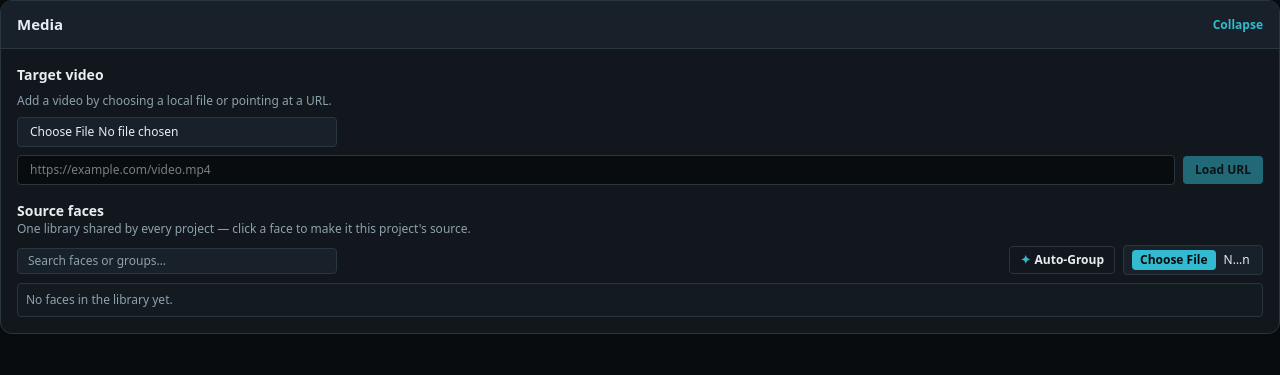
media card — video ingest › shows a failed URL ingest with the server message and keeps the entered URL
This screenshot has width=1280, height=375.
Type "https://bad.example/v.mp4" into the field with test id "media-url-input" at (596, 170), box [17,155,1175,185]
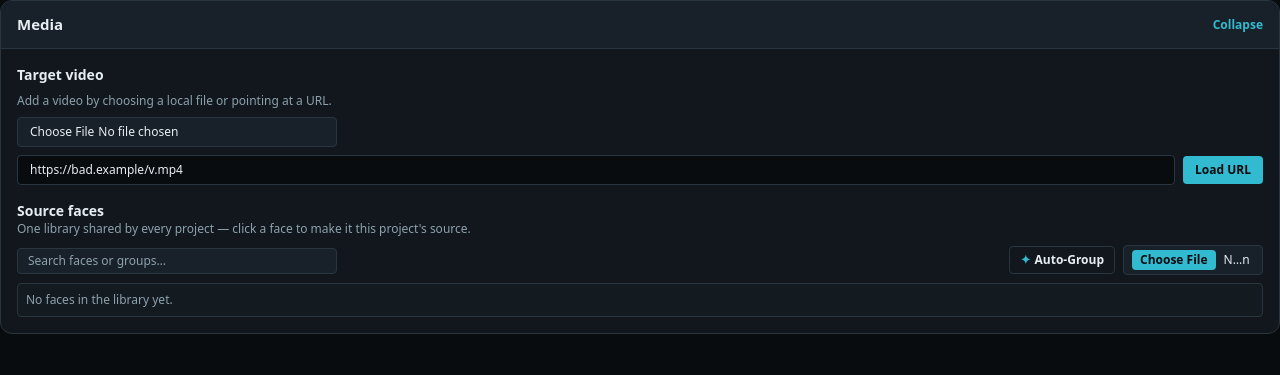
Click the button with test id "media-url-submit" at (1223, 170), box [1183,156,1263,184]
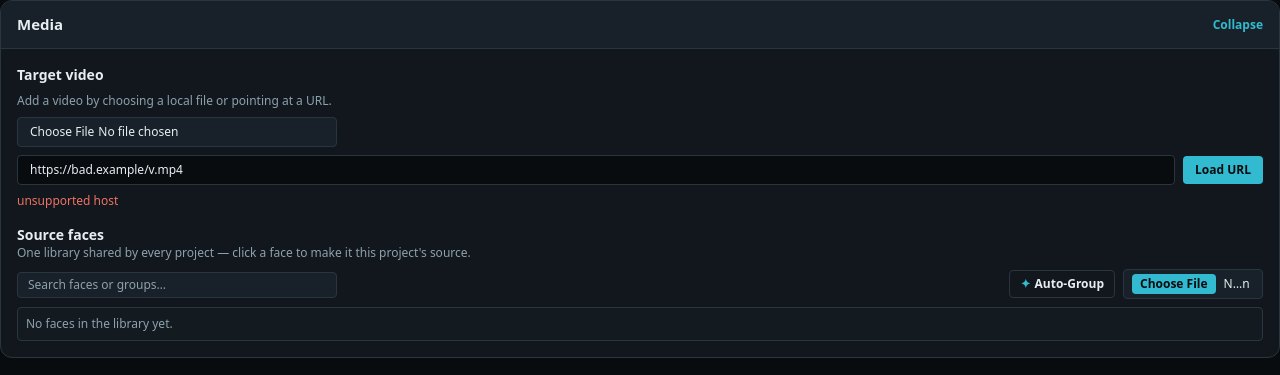
Result: the message with test id "media-error" reads "unsupported host" at [17,192,118,209]
